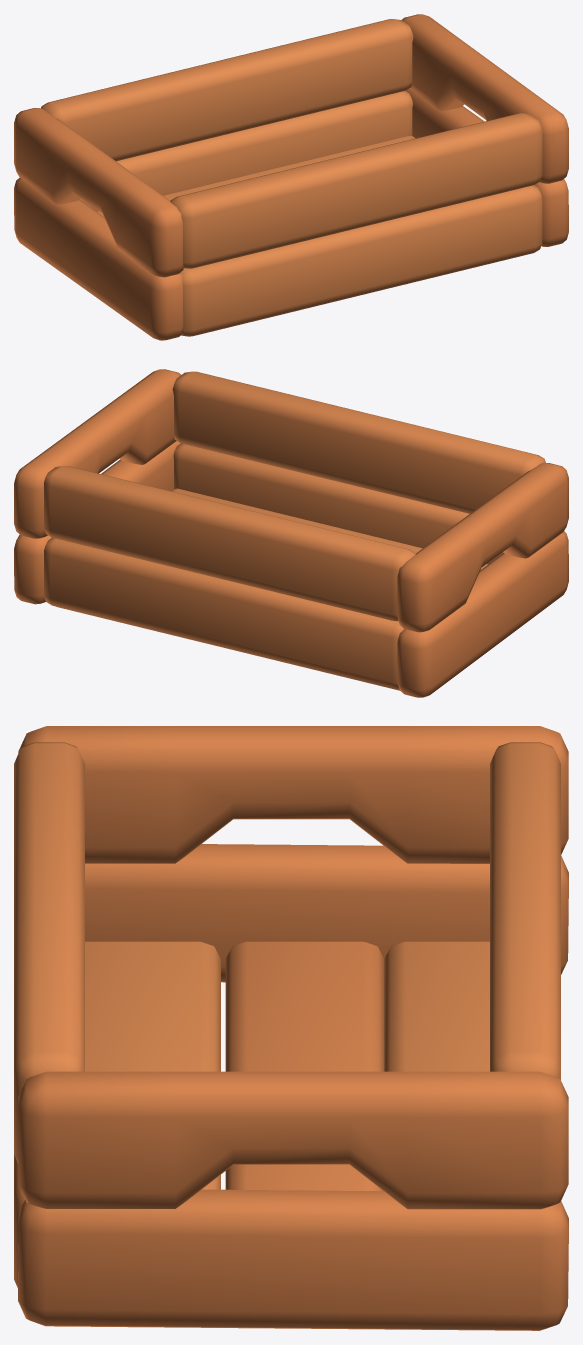
The model's file is wooden box.fbx.
3 views of the same model, one above another, from view 1: azimuth 30°, elevation 25°; view 2: azimuth 150°, elevation 25°; view 3: azimuth 270°, elevation 25° (orthographic). The views are drawn at different scales.
Visible parts, largest first — view 1: wooden box; view 2: wooden box; view 3: wooden box.
Boxes of the visible parts, left/top/right/bottom form: wooden box: left=14, top=14, right=568, bottom=340; wooden box: left=14, top=369, right=568, bottom=697; wooden box: left=14, top=726, right=568, bottom=1330.
Bounding box in the file's own units: 1.4 × 0.4477 × 0.878.
1 material, 1 textured.
